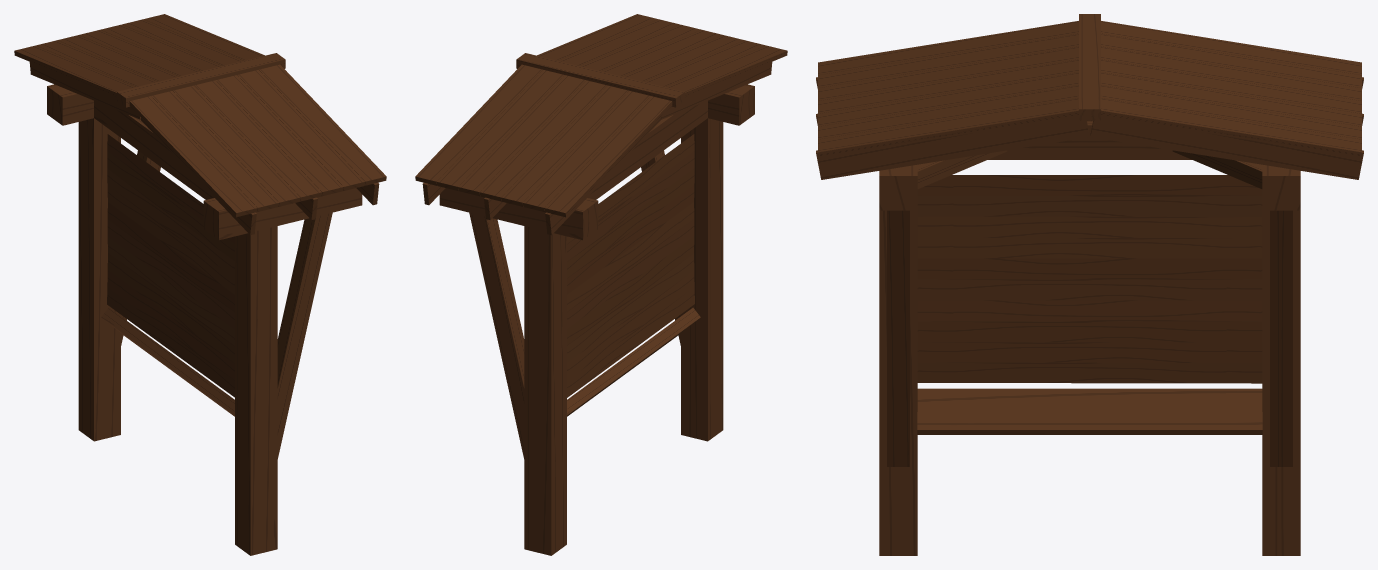
File: BulletinBoard.glb
The picture shows the model from 3 angles, left to right: view 1: azimuth 30°, elevation 25°; view 2: azimuth 150°, elevation 25°; view 3: azimuth 270°, elevation 25°; orthographic projection. The views are drawn at different scales.
Visible parts, largest first — view 1: Cube.006, Cube, Cube.002, BeamFront, Cube.004, Cube.003, Cube.010, Cube.001, Cube.007; view 2: Cube.006, Cube, Cube.002, BeamFront, Cube.004, Cube.003, Cube.010, Cube.001, Cube.007; view 3: Cube.002, Cube.006, Cube.001, Cube, Cube.010, BeamFront, Cube.004, Cube.003, Cube.005, Cube.007.
Boxes of the visible parts, x1,y1,x2,y2 form: Cube.006: (14, 14, 386, 217); Cube: (78, 118, 277, 555); Cube.002: (107, 134, 234, 397); BeamFront: (121, 150, 332, 458); Cube.004: (47, 84, 362, 240); Cube.003: (94, 101, 214, 199); Cube.010: (29, 62, 379, 234); Cube.001: (101, 307, 234, 416); Cube.007: (117, 53, 285, 107); Cube.006: (415, 14, 787, 217); Cube: (524, 118, 723, 555); Cube.002: (567, 134, 694, 397); BeamFront: (469, 150, 680, 458); Cube.004: (439, 84, 754, 240); Cube.003: (587, 101, 707, 199); Cube.010: (422, 62, 772, 234); Cube.001: (567, 307, 700, 416); Cube.007: (516, 53, 684, 107); Cube.002: (917, 175, 1262, 383); Cube.006: (818, 21, 1361, 157); Cube.001: (917, 388, 1262, 434); Cube: (879, 210, 1300, 555); Cube.010: (816, 77, 1363, 179); BeamFront: (887, 210, 1292, 466); Cube.004: (879, 164, 1300, 210); Cube.003: (988, 121, 1191, 159); Cube.005: (917, 150, 1262, 188); Cube.007: (1079, 14, 1100, 120).
Bounding box in the file's own units: 1.03 × 2.53 × 2.51.
Materials: 1 (1 with a texture image).
